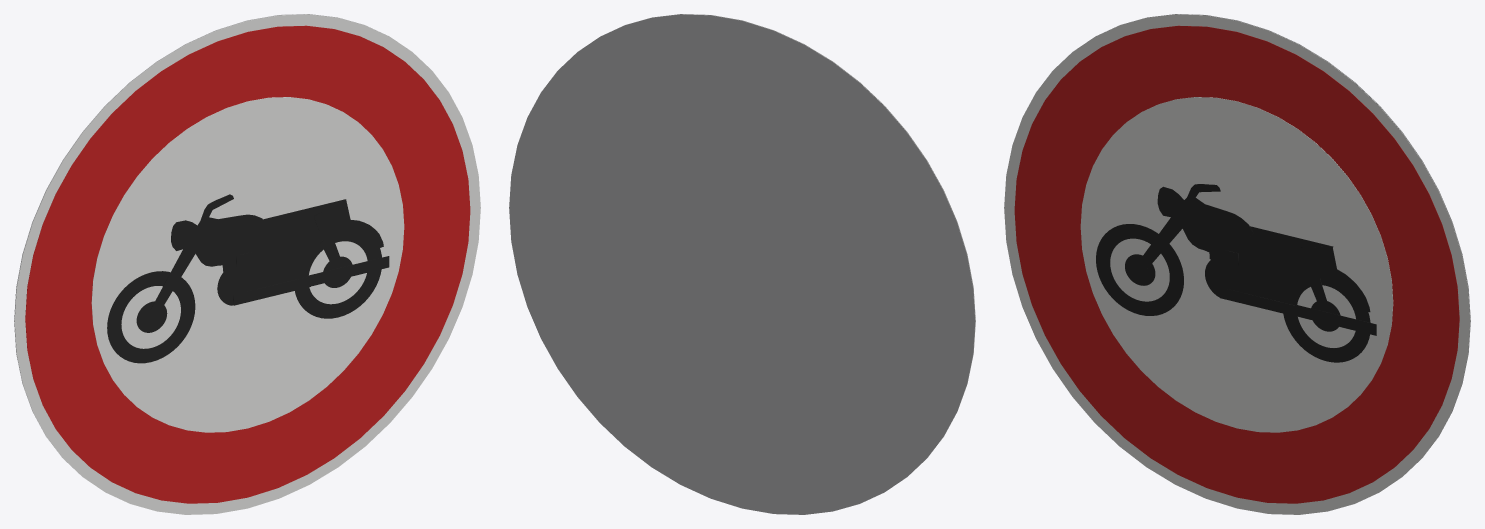
The picture shows the model from 3 angles, left to right: view 1: azimuth 30°, elevation 25°; view 2: azimuth 150°, elevation 25°; view 3: azimuth 330°, elevation 25°; orthographic projection.
Visible parts, largest first — view 1: B9h_p01, B9h_p02, B9h_p00, B9h_p08, B9h_p11, B9h_p03, B9h_p04, B9h_p12, B9h_p09, B9h_p14, B9h_p07, B9h_dos (+1 smaller); view 2: B9h_dos, B9h_p00; view 3: B9h_p01, B9h_p02, B9h_p00, B9h_p08, B9h_p11, B9h_p03, B9h_p04, B9h_p12, B9h_p09, B9h_p14, B9h_p07, B9h_dos (+1 smaller).
Boxes of the visible parts, x1,y1,x2,y2 form: B9h_p01: (25,25,470,503); B9h_p02: (91,97,404,432); B9h_p00: (14,14,480,514); B9h_p08: (217,199,345,305); B9h_p11: (171,194,266,272); B9h_p03: (107,271,195,363); B9h_p04: (295,234,381,318); B9h_p12: (313,200,383,250); B9h_p09: (305,256,389,286); B9h_p14: (233,276,310,305); B9h_p07: (151,248,195,312); B9h_dos: (14,14,385,473); B9h_dos: (509,14,975,514); B9h_p00: (604,14,975,473); B9h_p01: (1014,25,1459,503); B9h_p02: (1080,97,1393,432); B9h_p00: (1004,14,1470,514); B9h_p08: (1205,226,1333,304); B9h_p11: (1157,184,1253,263); B9h_p03: (1096,224,1183,315); B9h_p04: (1283,278,1370,362); B9h_p12: (1300,246,1370,312); B9h_p09: (1292,304,1376,335); B9h_p14: (1219,287,1296,316); B9h_p07: (1138,217,1182,268); B9h_dos: (1099,14,1470,473).
Bounding box in the file's own units: 0.85 × 0.8498 × 0.0075.
